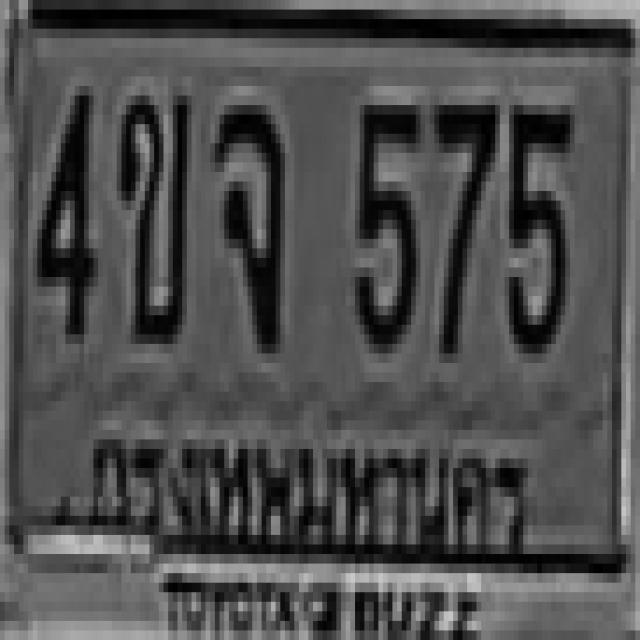11KhorKhai: (117, 86, 187, 334)
17ChorChan: (210, 95, 280, 344)
4: (32, 76, 88, 334)
5: (504, 95, 570, 344), (350, 95, 416, 344)
7: (430, 95, 495, 354)
Bangkok: (87, 408, 535, 578)
